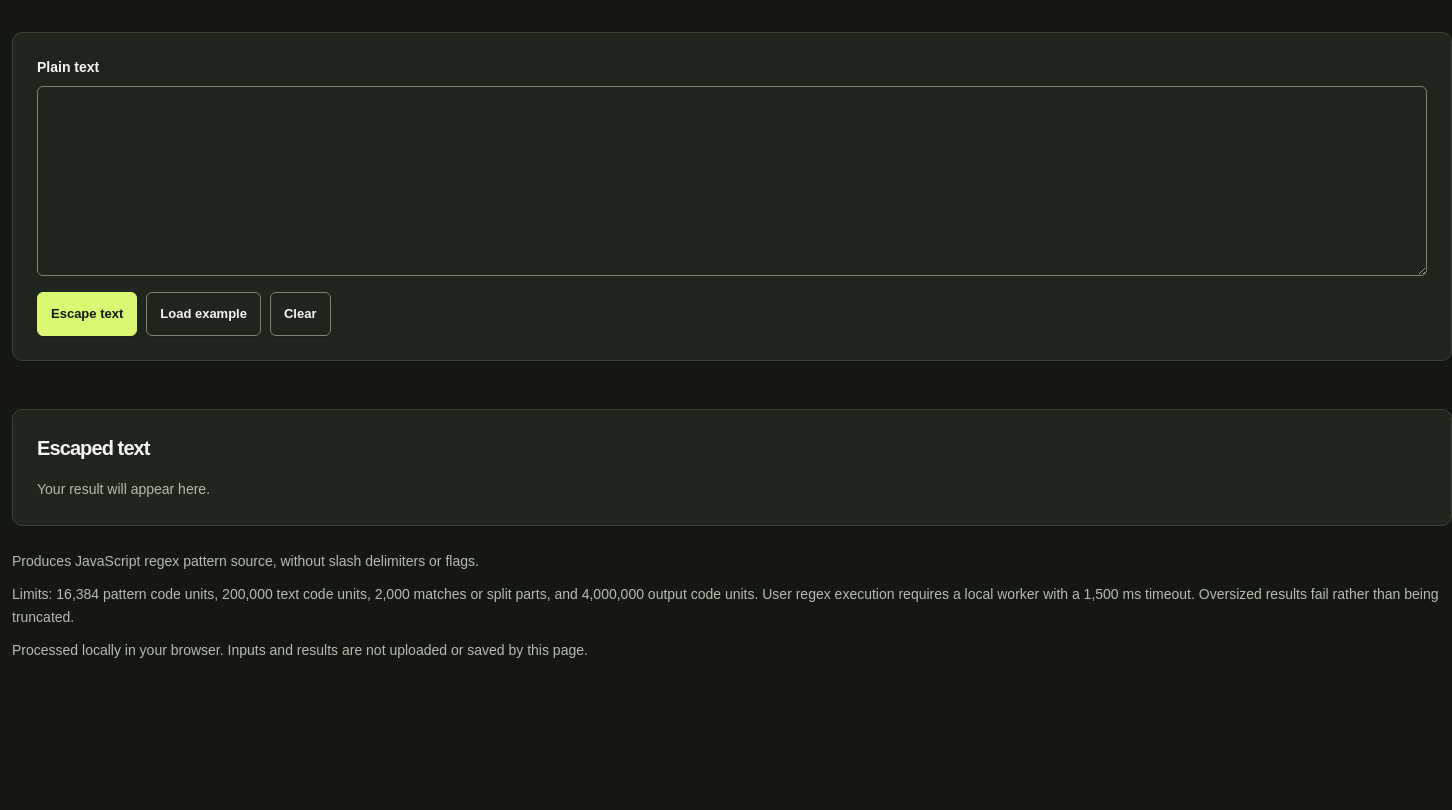
Test case: Regex dark DOM theme, not visual proof › regex-escape has exact controls, keyboard processing, exact Copy and complete Clear
Check: the number of text boxes is 1, box x1=37 y1=86 x2=1427 y2=276
Press Tab
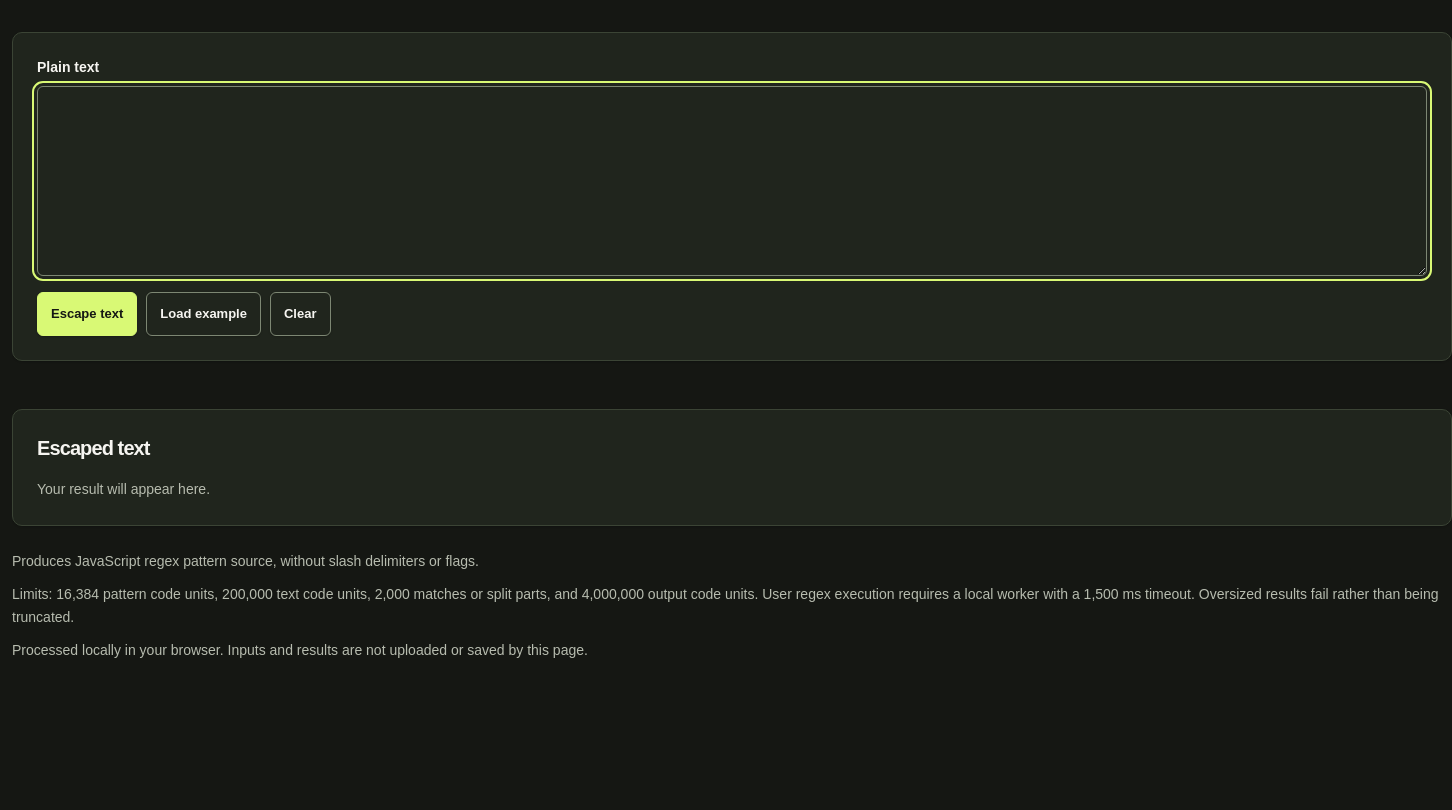
Click the button "Load example" at (204, 314), box x1=146 y1=292 x2=261 y2=336
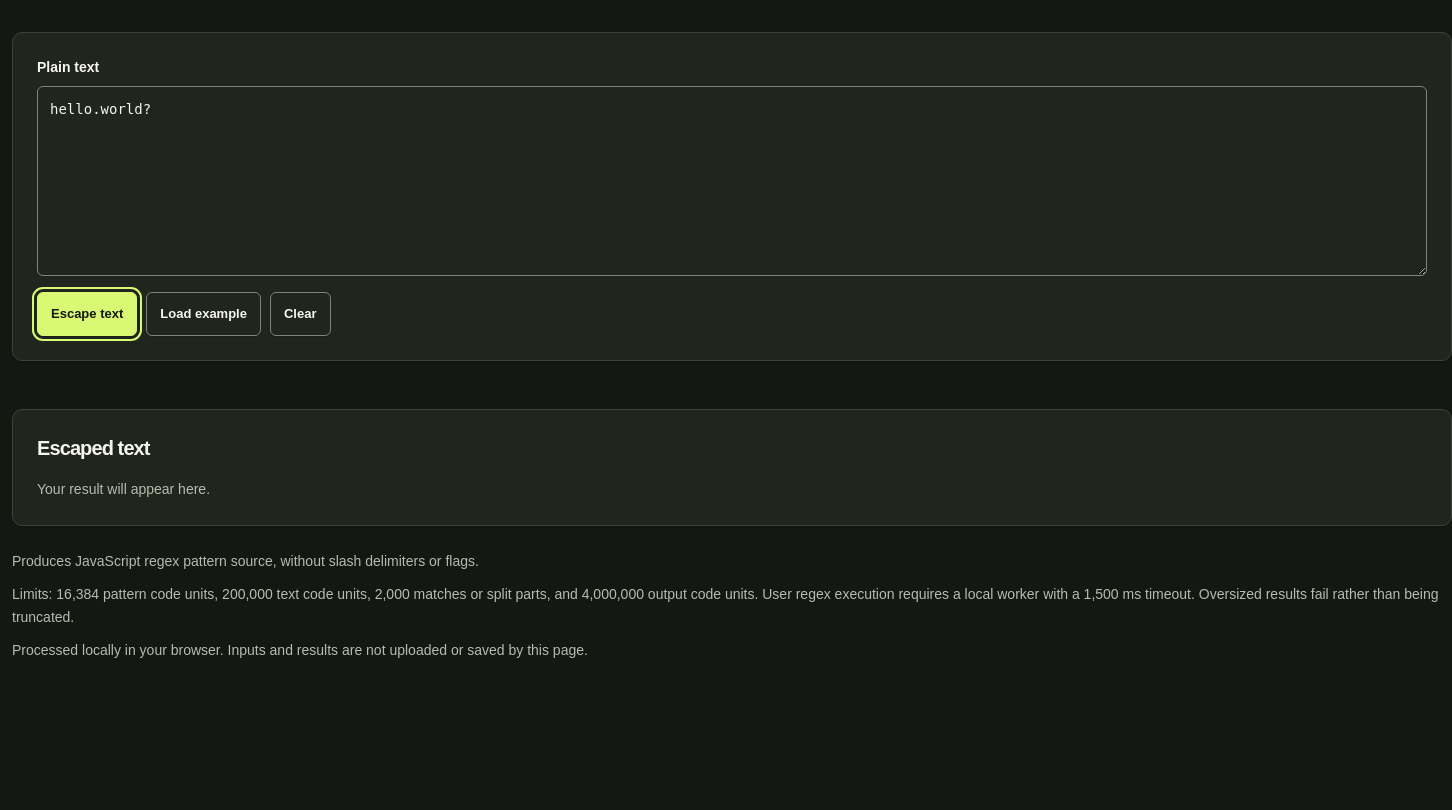
Press Enter
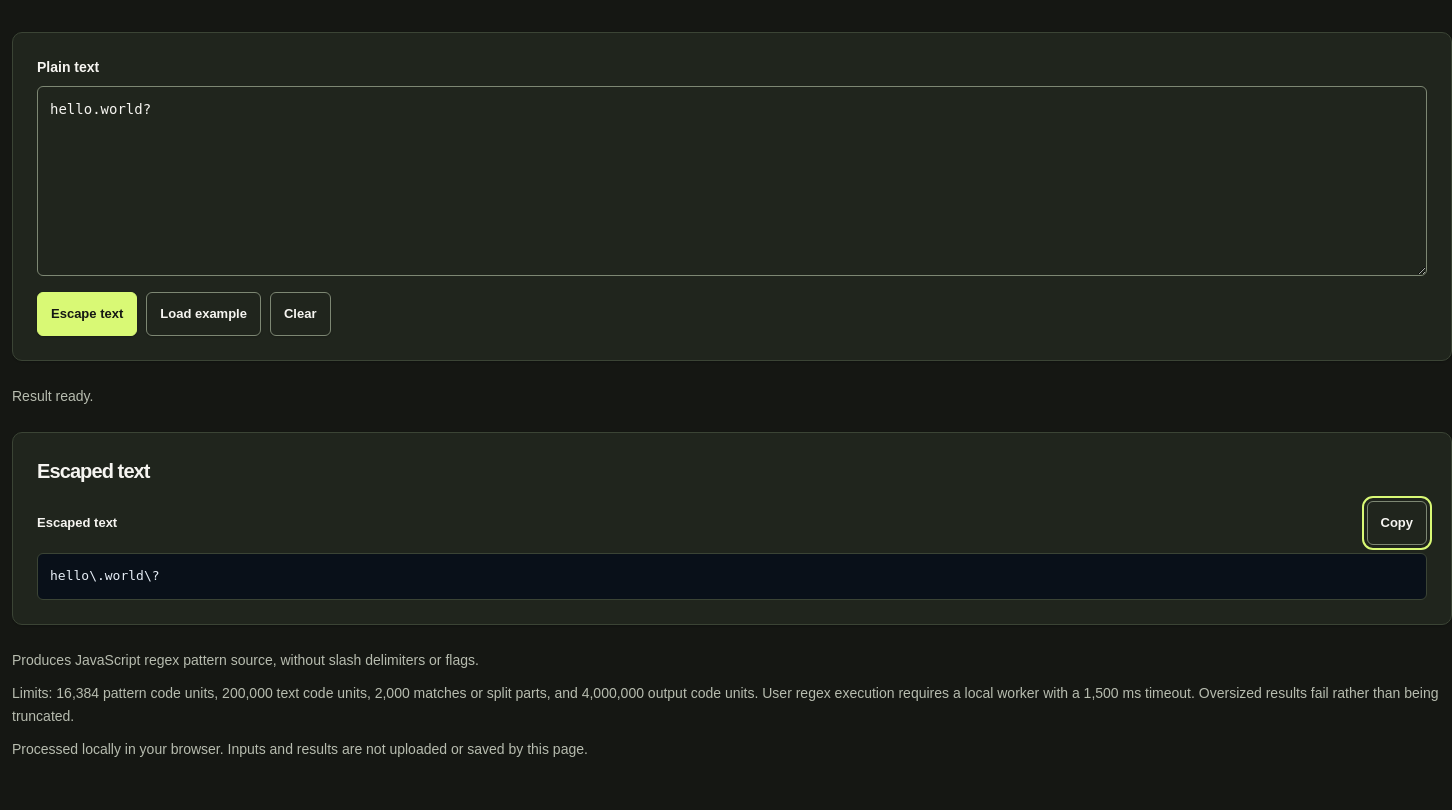
Check: the number of buttons "Copy " is 1, box x1=1366 y1=501 x2=1427 y2=545
Press Enter
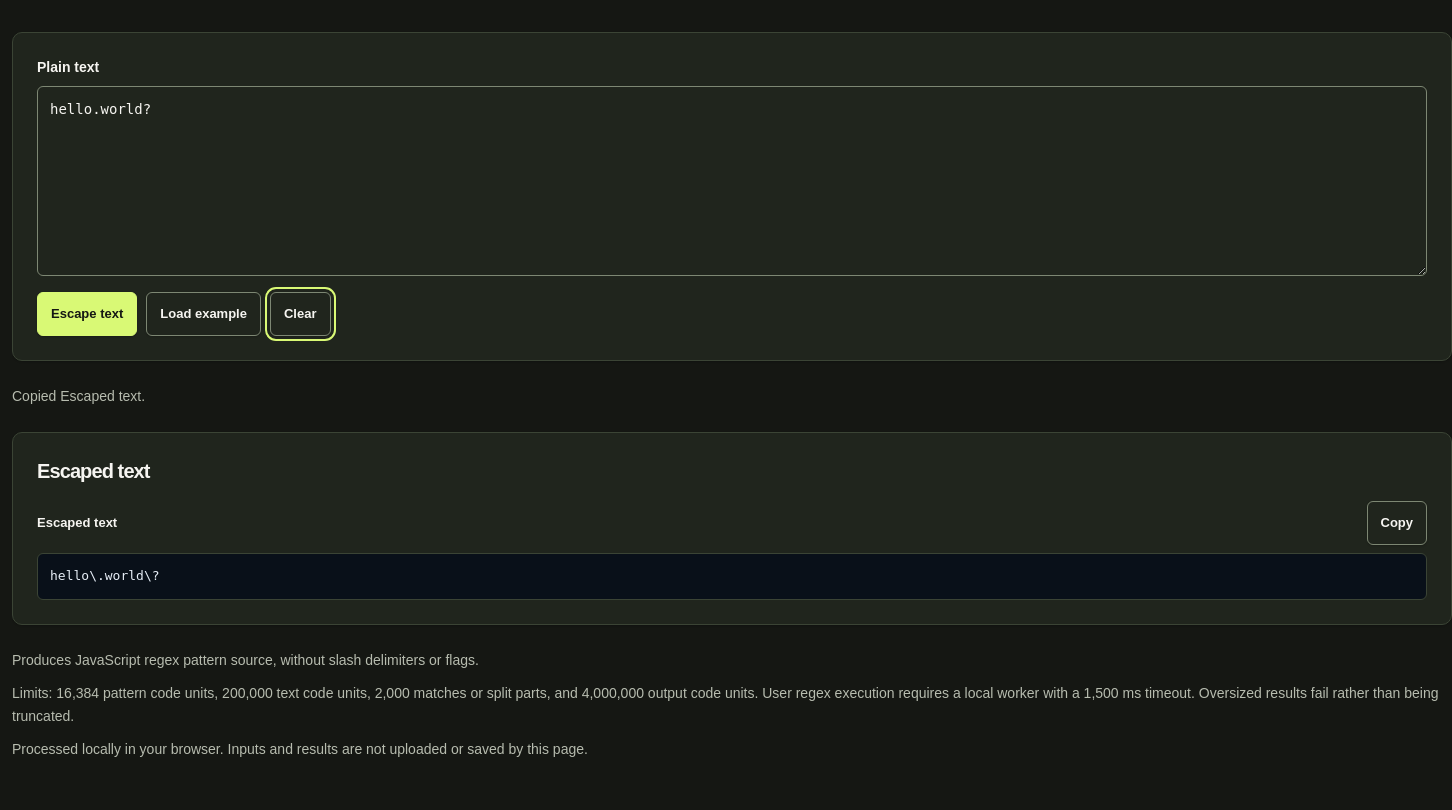
Press Enter
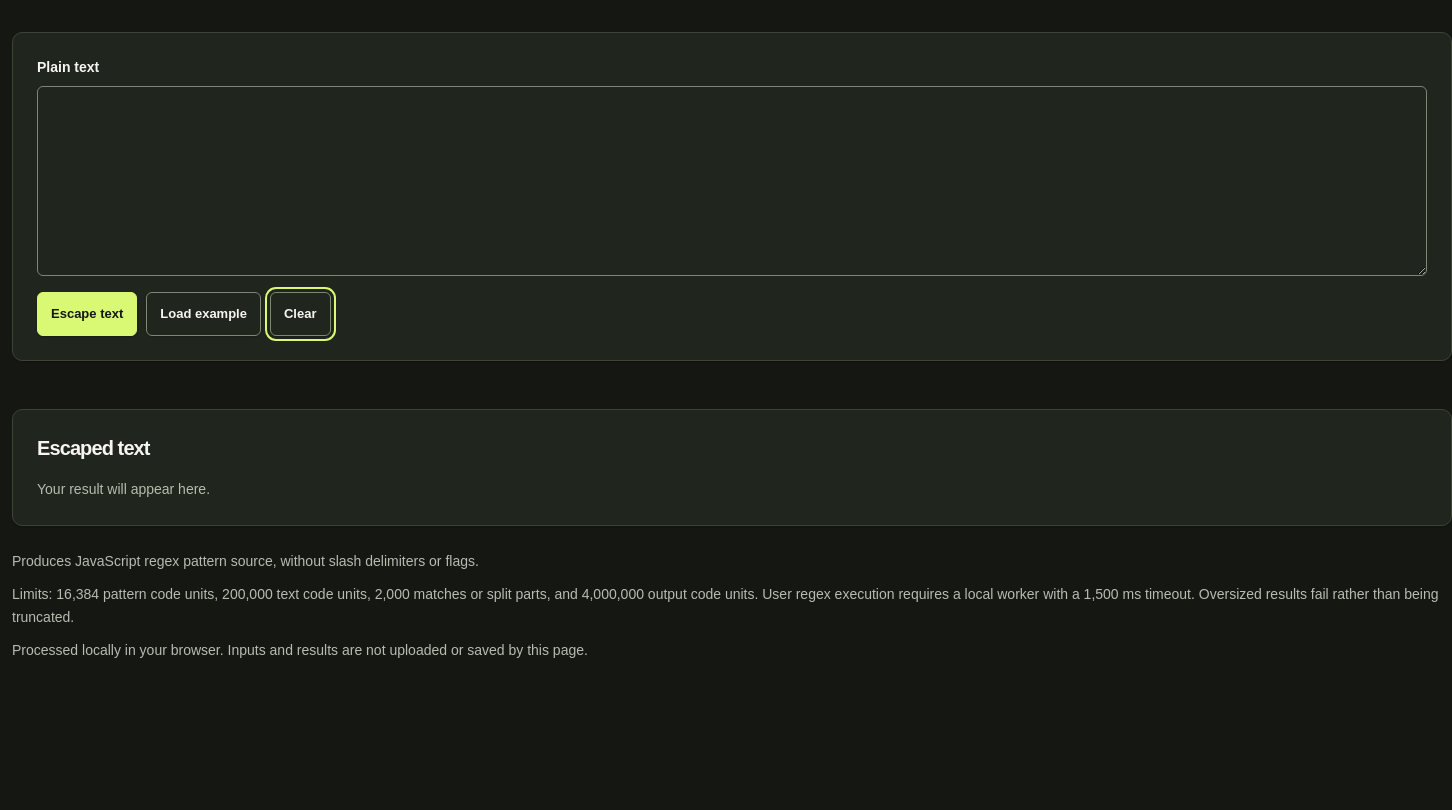
Check: the text box labelled "Plain text" is empty, box x1=37 y1=86 x2=1427 y2=276
Check: the message "Copied Escaped text." is gone
